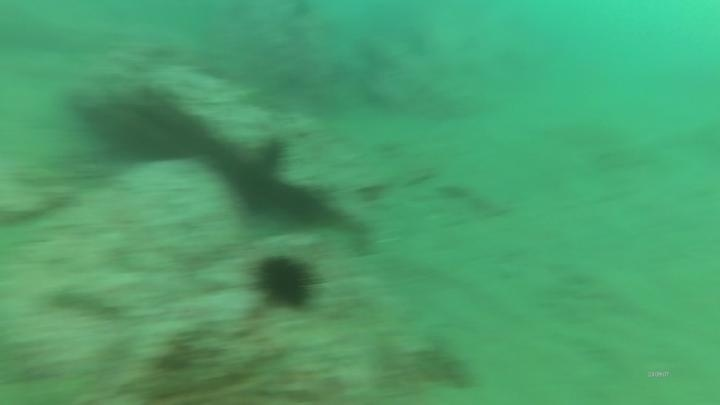echinus: (248, 249, 323, 315)
